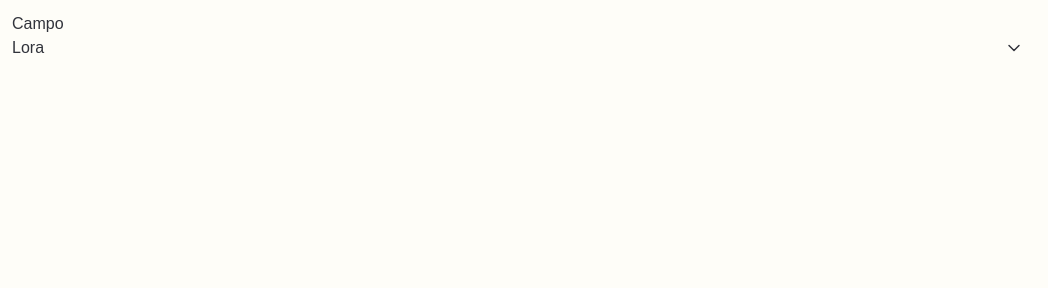
Test case: Combobox › muestra las opciones agrupadas y elige con el mouse
Click the dropdown labelled "Campo". click: point(134, 48)
box: [12,36,255,60]
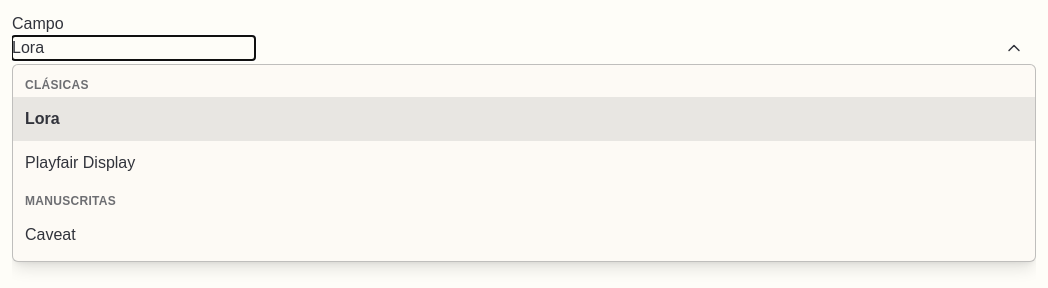
Check: the list named "Clásicas" is shown, box [13,97,1035,185]
Check: the list named "Manuscritas" is shown
Click the option "Caveat". click: point(50, 234)
box: [25,226,76,243]
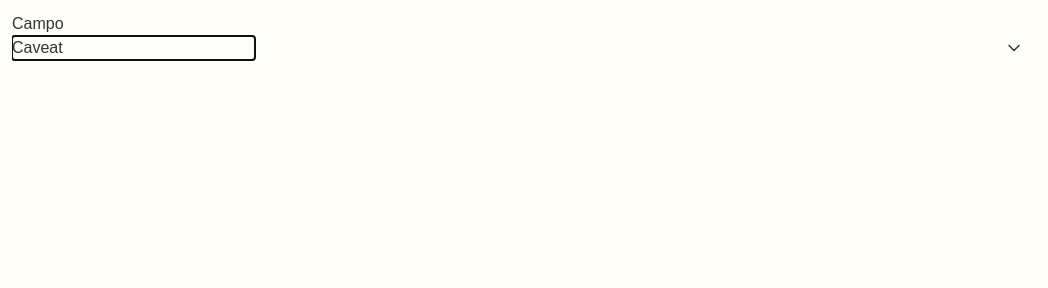
Check: the form named "field" holds "caveat", box [12,12,1036,84]
Check: the dropdown labelled "Campo" holds "Caveat", box [12,36,255,60]
Check: the dropdown labelled "Campo" is collapsed, box [12,36,255,60]
